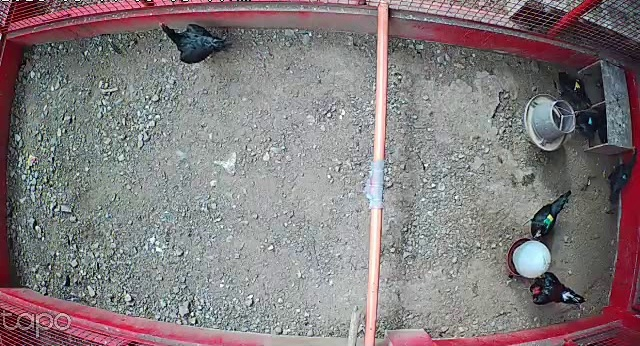Chicken: (155, 17, 235, 67), (521, 192, 575, 244), (600, 144, 639, 207), (548, 68, 595, 107), (570, 109, 606, 141)
Feeder: (505, 239, 553, 276)
Saddle_Color_Blue: (624, 175, 628, 180)
Saddle_Color_Yellow: (522, 269, 587, 309), (574, 78, 582, 92)
Saddle_Color_YellowGreen: (544, 212, 555, 226)
